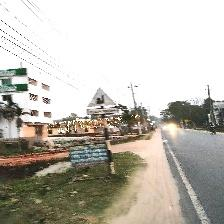Mosque in front: (82, 83, 121, 119)
